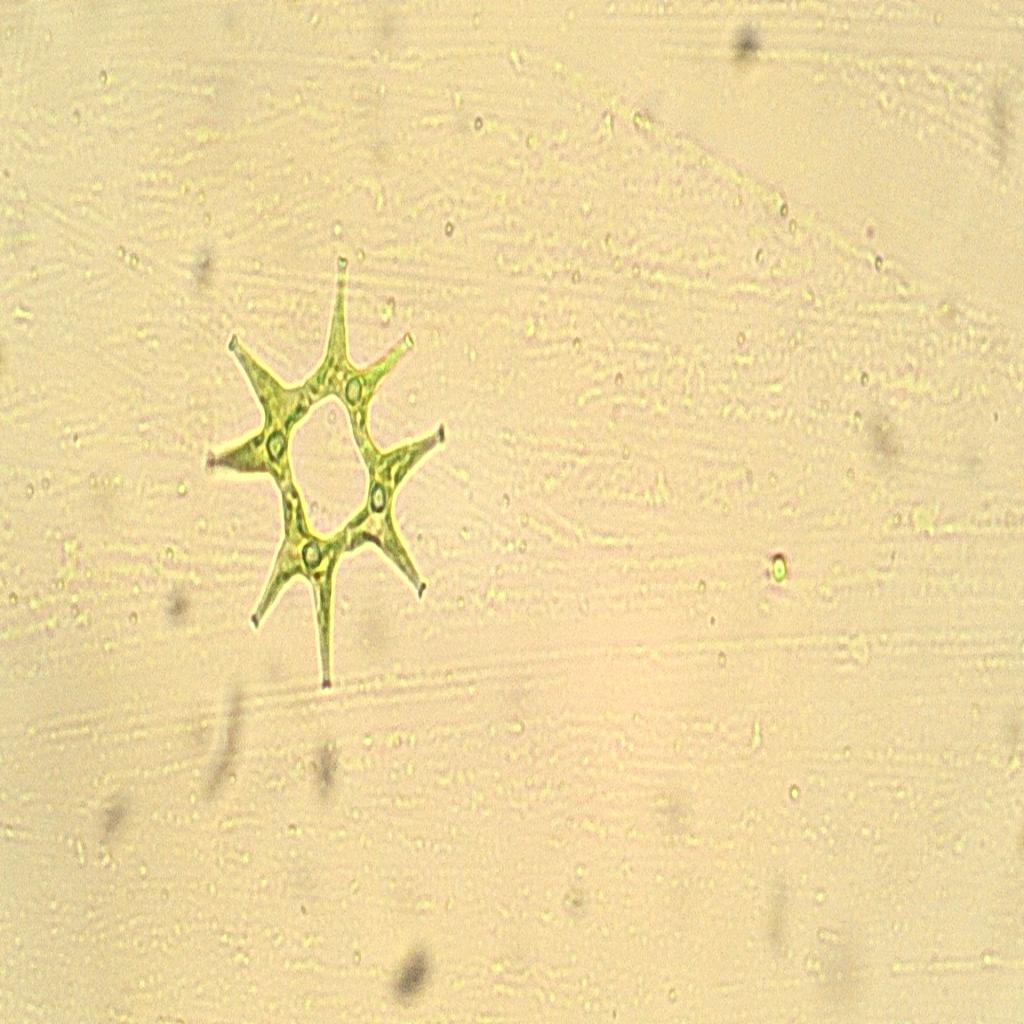Pediastrum_CO: (196, 219, 450, 701)
